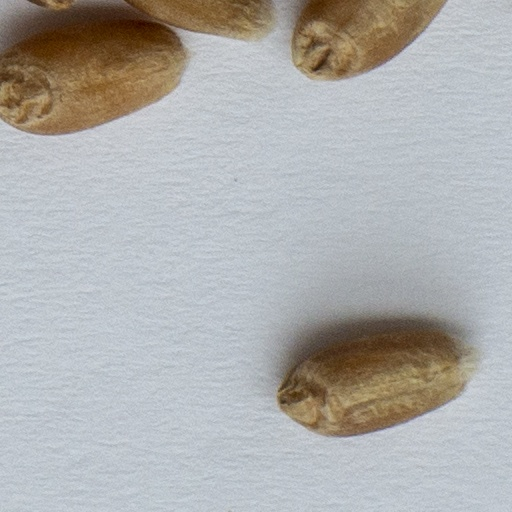Wheat-grain-poly: (278, 328, 477, 435)
